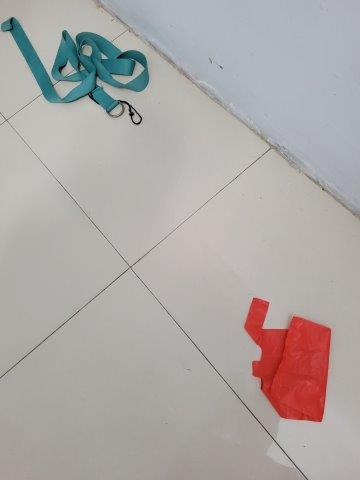plastik: (244, 299, 332, 423)
